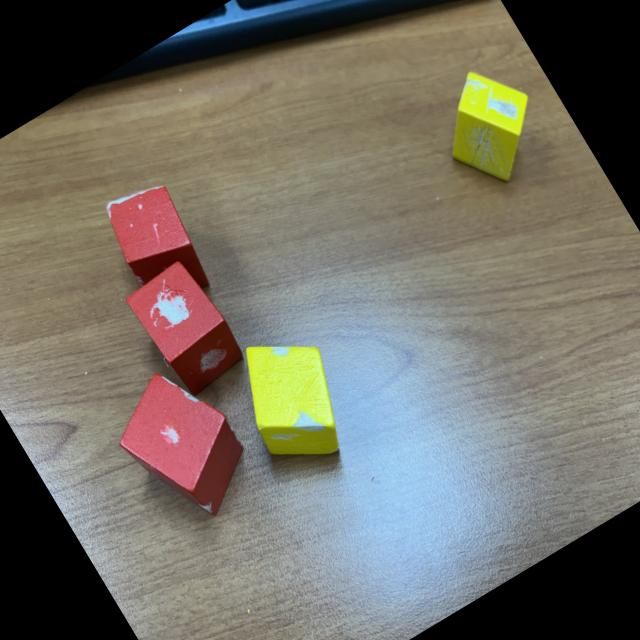broken: (98, 352, 268, 540), (217, 315, 371, 483), (418, 50, 562, 200), (121, 255, 252, 402), (94, 172, 221, 316)
